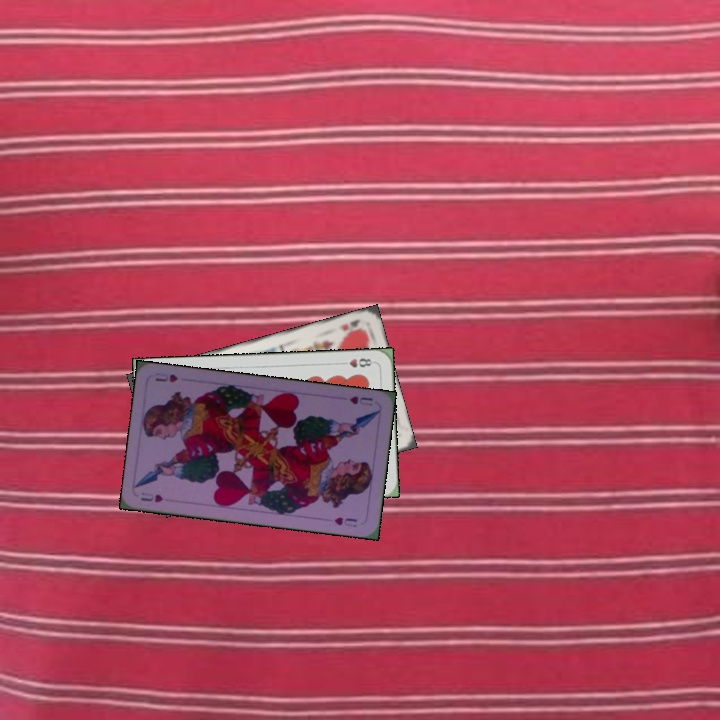H8: (336, 354, 377, 370)
HK: (334, 315, 362, 334)
HU: (137, 488, 166, 505), (345, 392, 375, 408)
